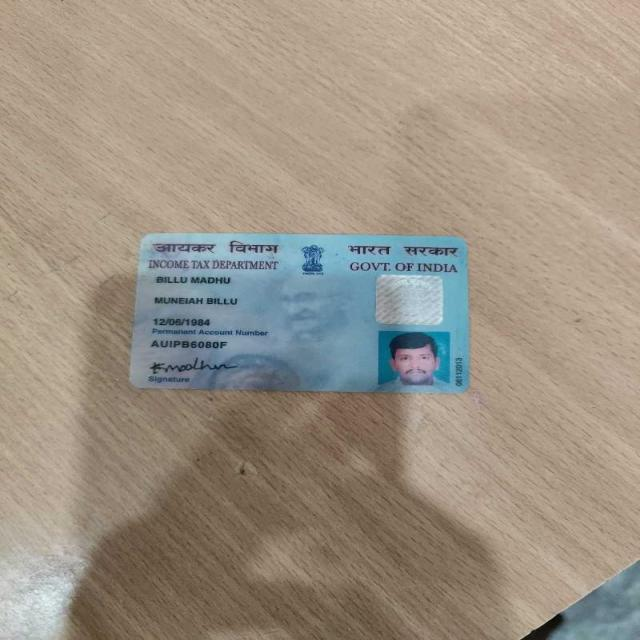pan_card: (128, 236, 466, 396)
